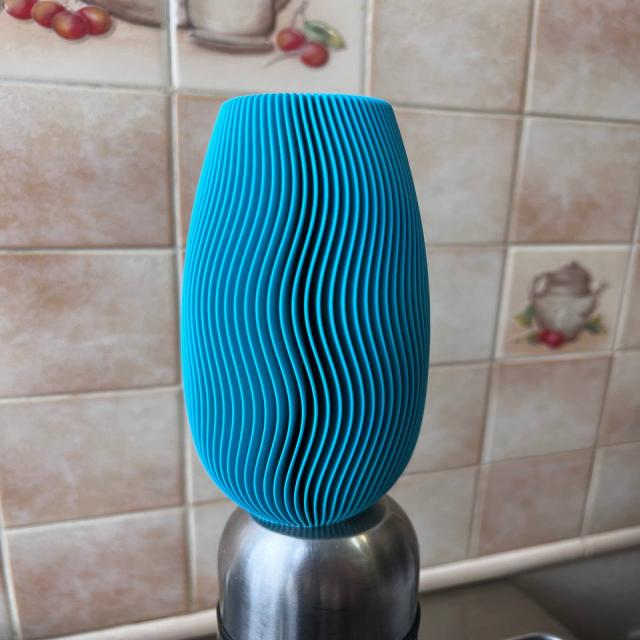Without deffect: (170, 80, 436, 544)
